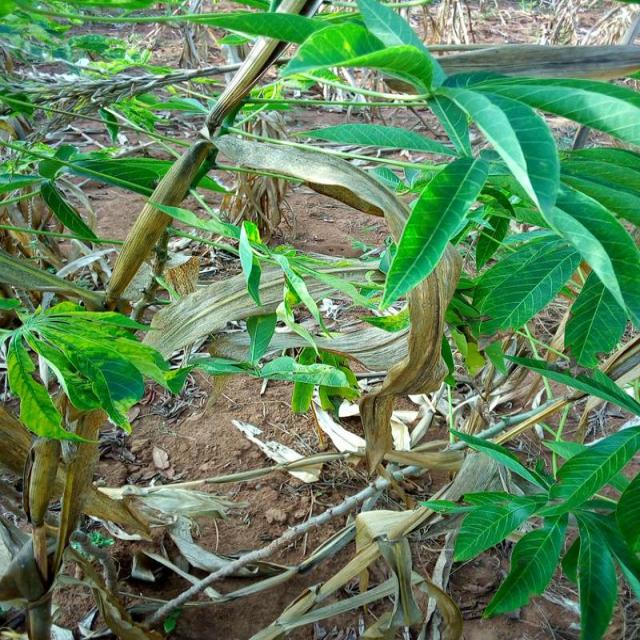cassava leaf: (4, 298, 178, 442), (103, 137, 218, 307), (378, 154, 489, 312)
